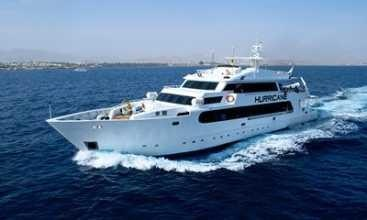yacht: (37, 43, 334, 162)
